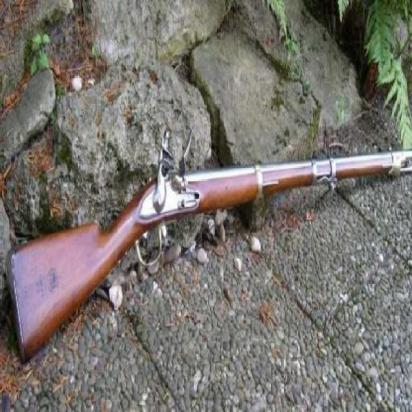Gun: (9, 153, 410, 352)
